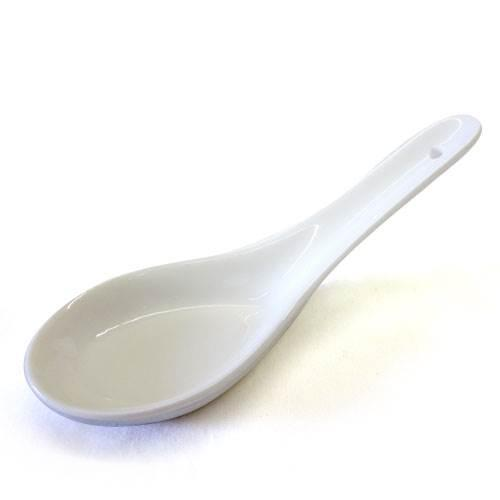Spoon: (23, 114, 482, 427)
